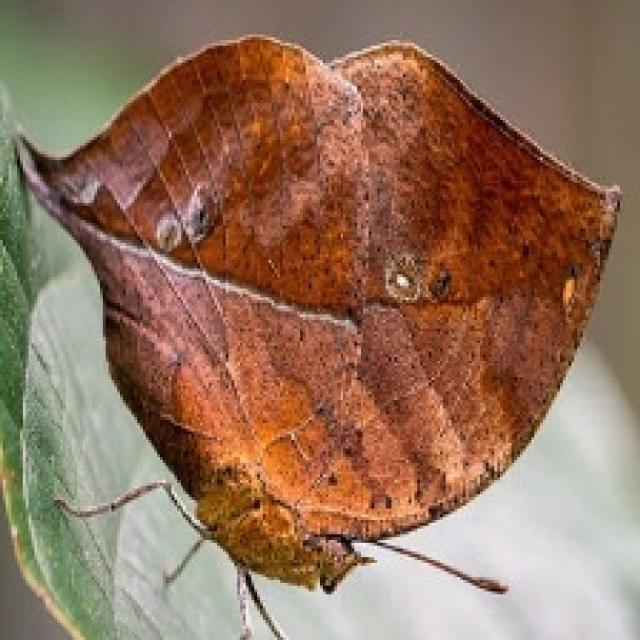butterfly: (8, 32, 623, 637)
